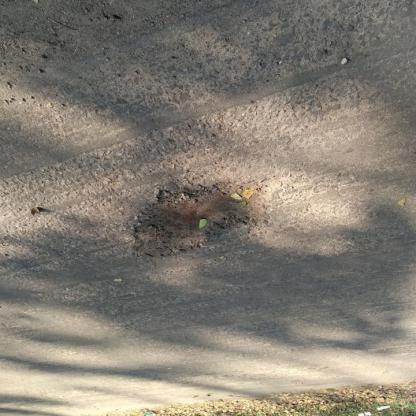pothole: (128, 179, 272, 262)
